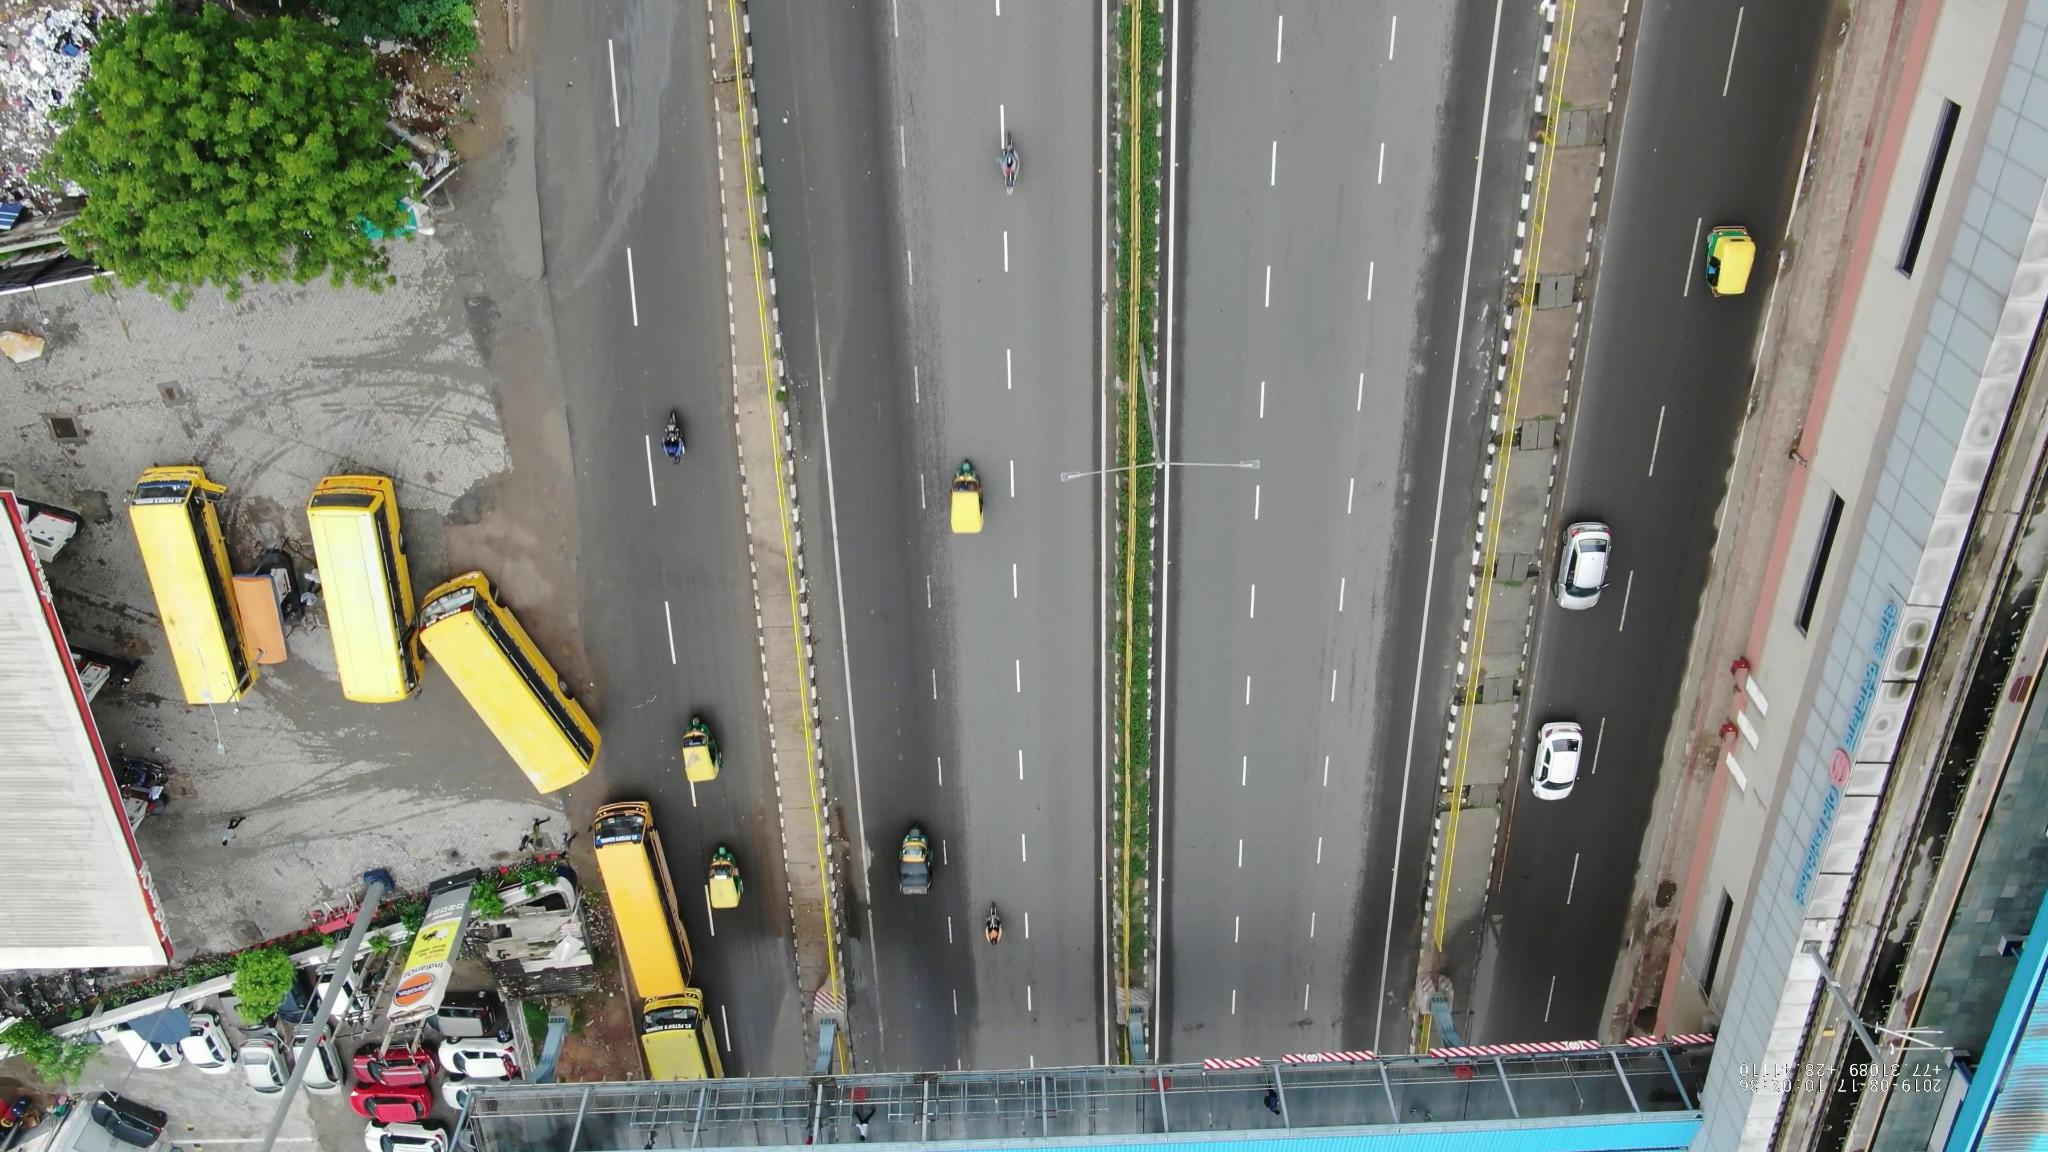Waterlogging: (833, 805, 882, 1010)
